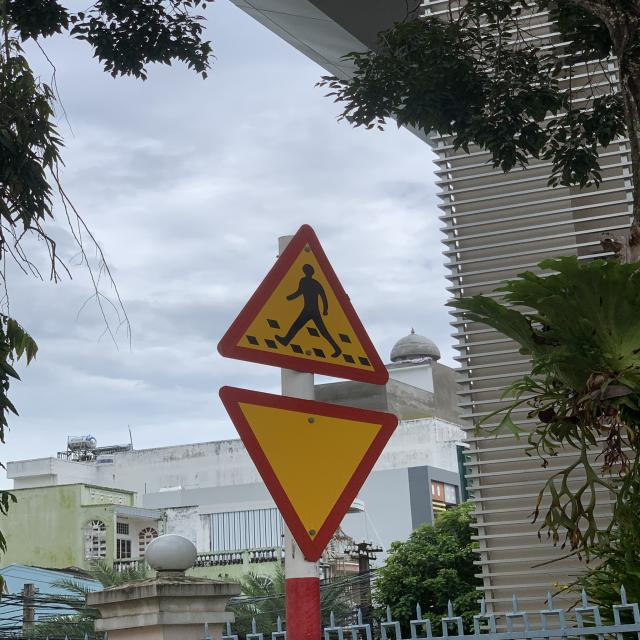Duong_Nguoi_Di_Bo_Sang_Ngang: (218, 224, 387, 384)
Gioi_Han_Toc_Do_25: (222, 387, 396, 560)
